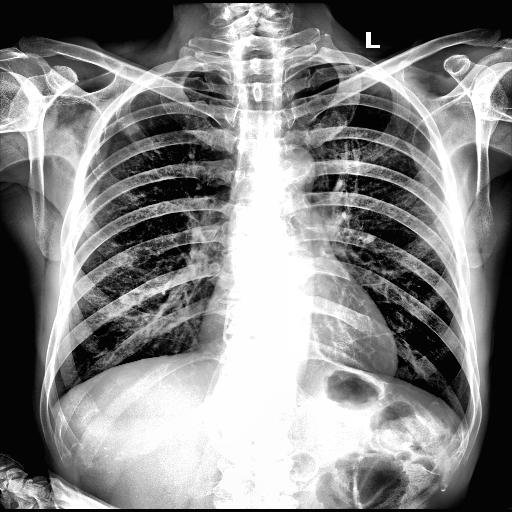7- Lung Opacity: (118, 114, 140, 136)
8- Nodule-Mass: (118, 114, 140, 136), (116, 119, 140, 135), (120, 118, 140, 136)
9- Other lesion: (118, 114, 140, 136), (116, 119, 140, 135)
